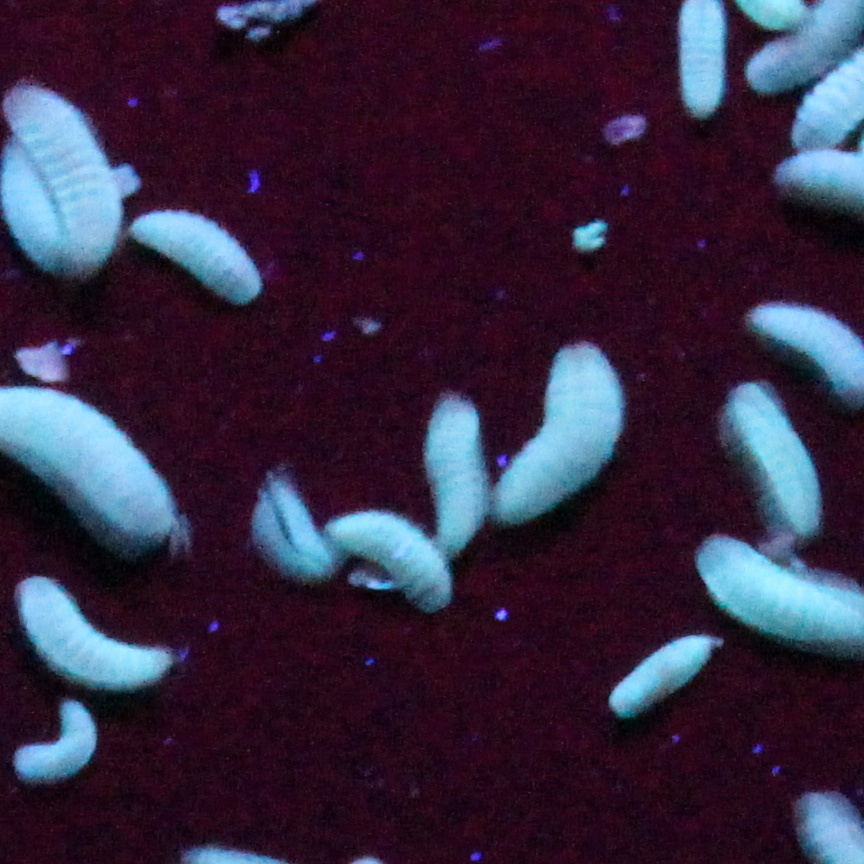larve: (490, 343, 630, 530), (10, 80, 120, 271), (15, 576, 168, 689), (328, 503, 455, 614), (730, 390, 823, 529), (130, 210, 261, 308), (422, 396, 484, 556), (608, 634, 710, 716), (8, 701, 102, 783), (259, 476, 328, 583), (8, 156, 62, 249)
